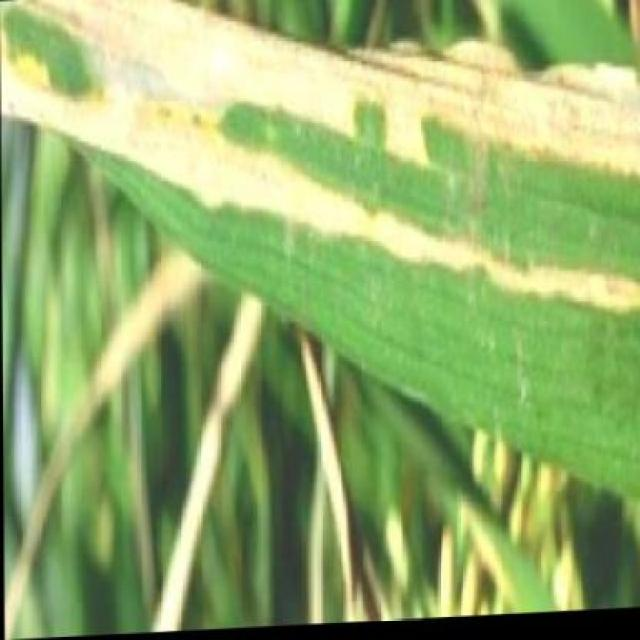Brown_Spot: (115, 34, 640, 349)
